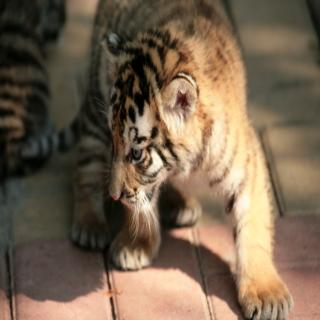Tiger: (22, 0, 294, 320), (0, 0, 66, 179)
